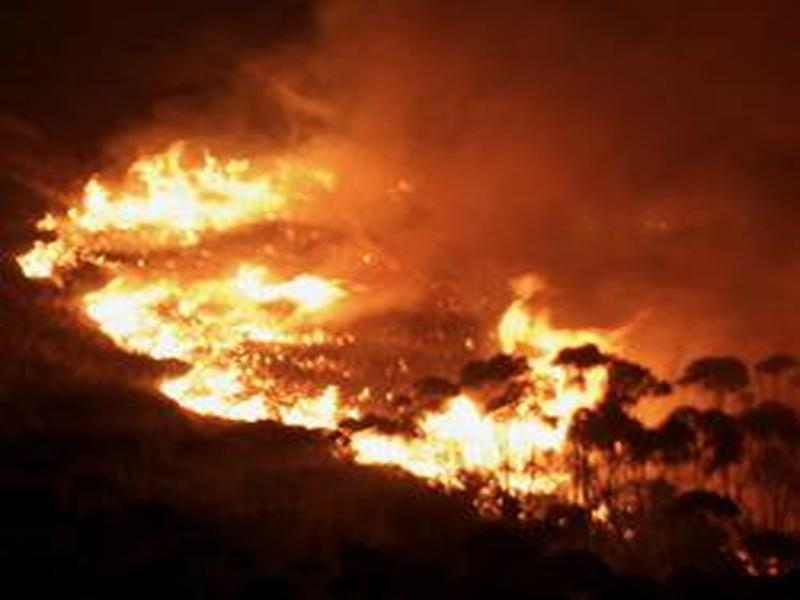FIRE: (13, 154, 635, 508)
